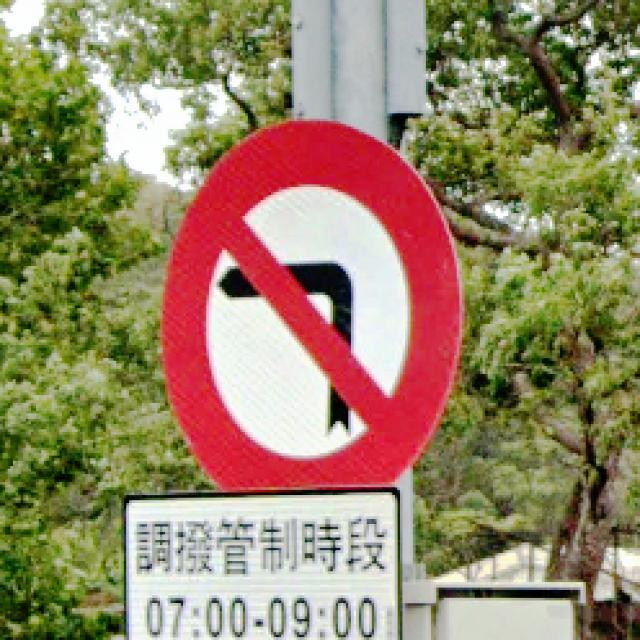noturnleft: (155, 113, 467, 490)
